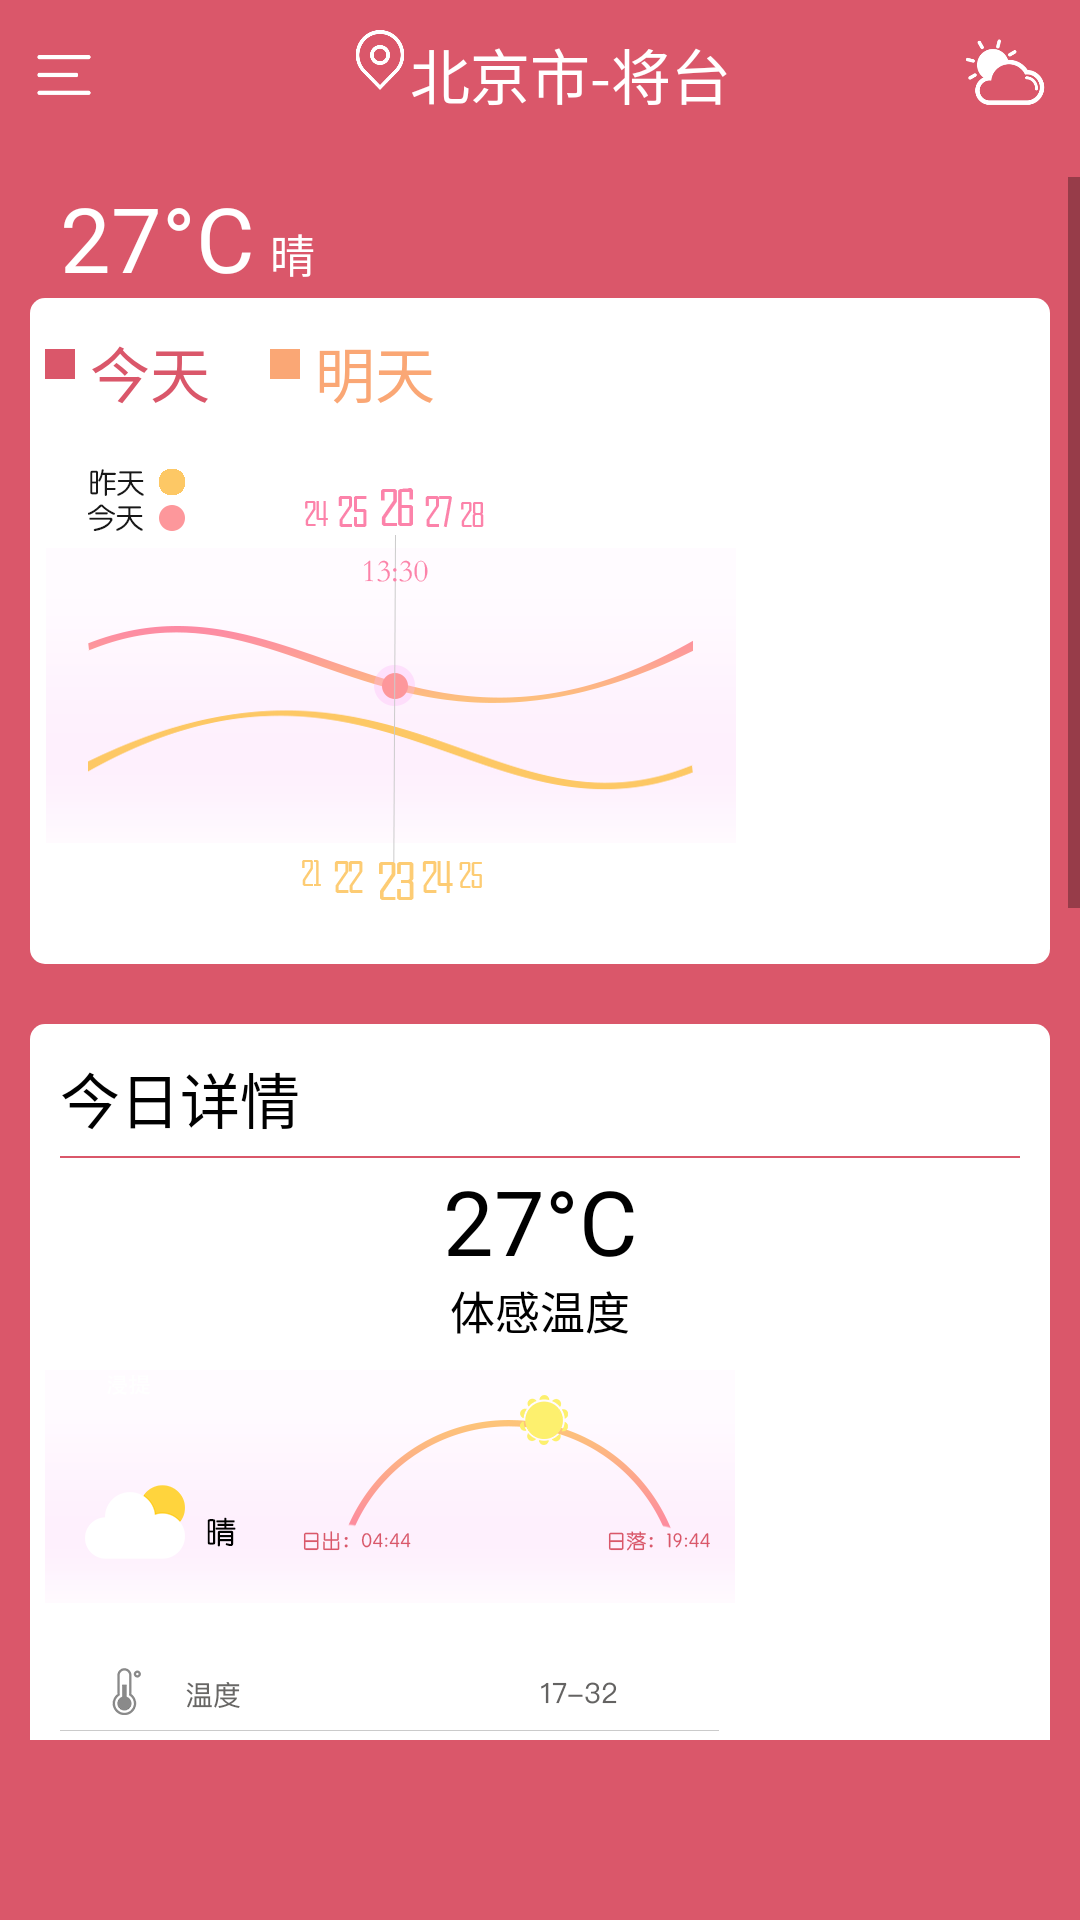

Icons on this 1080x1920 Android screen, each with the point to tap as (x,y):
location: (380,60)
weather: (1005,72)
